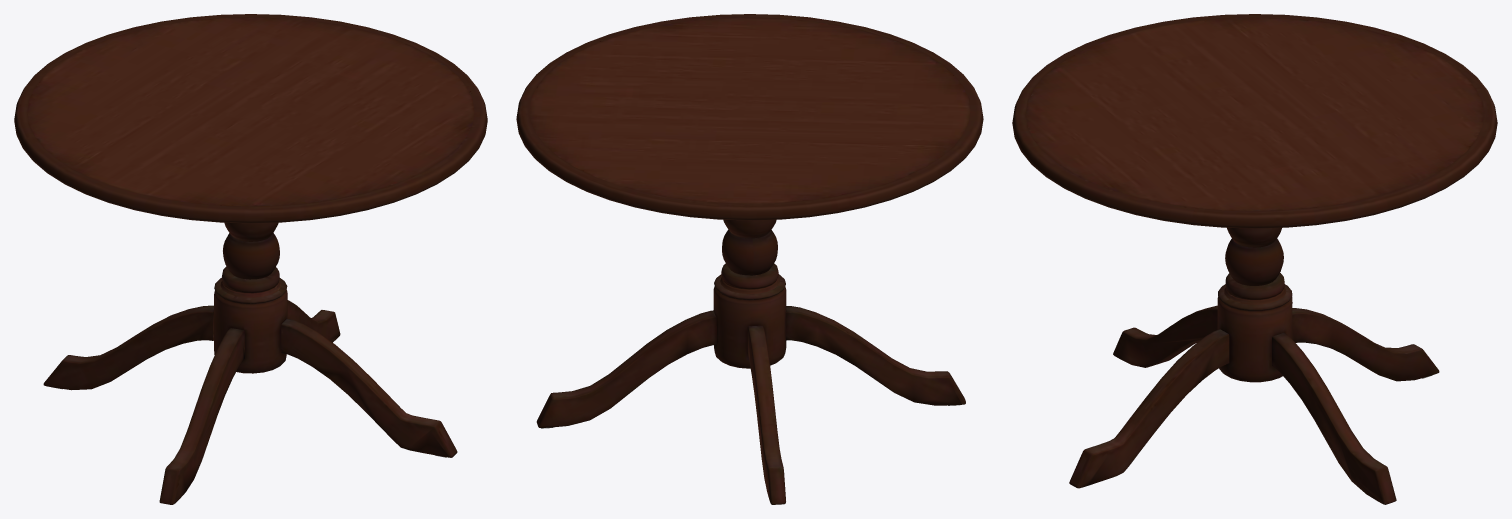
File: round_wooden_table_01.glb
3 views of the same model, side by side, from view 1: azimuth 30°, elevation 25°; view 2: azimuth 150°, elevation 25°; view 3: azimuth 270°, elevation 25° (orthographic). The views are drawn at different scales.
Parts seen in each view (by area): view 1: round_wooden_table_01; view 2: round_wooden_table_01; view 3: round_wooden_table_01.
Boxes of the visible parts, <box> form: round_wooden_table_01: <box>14,14,487,504</box>; round_wooden_table_01: <box>516,14,983,504</box>; round_wooden_table_01: <box>1012,14,1497,504</box>.
Bounding box in the file's own units: 1.4 × 1.01 × 1.4.
Materials: 1 (1 with a texture image).
